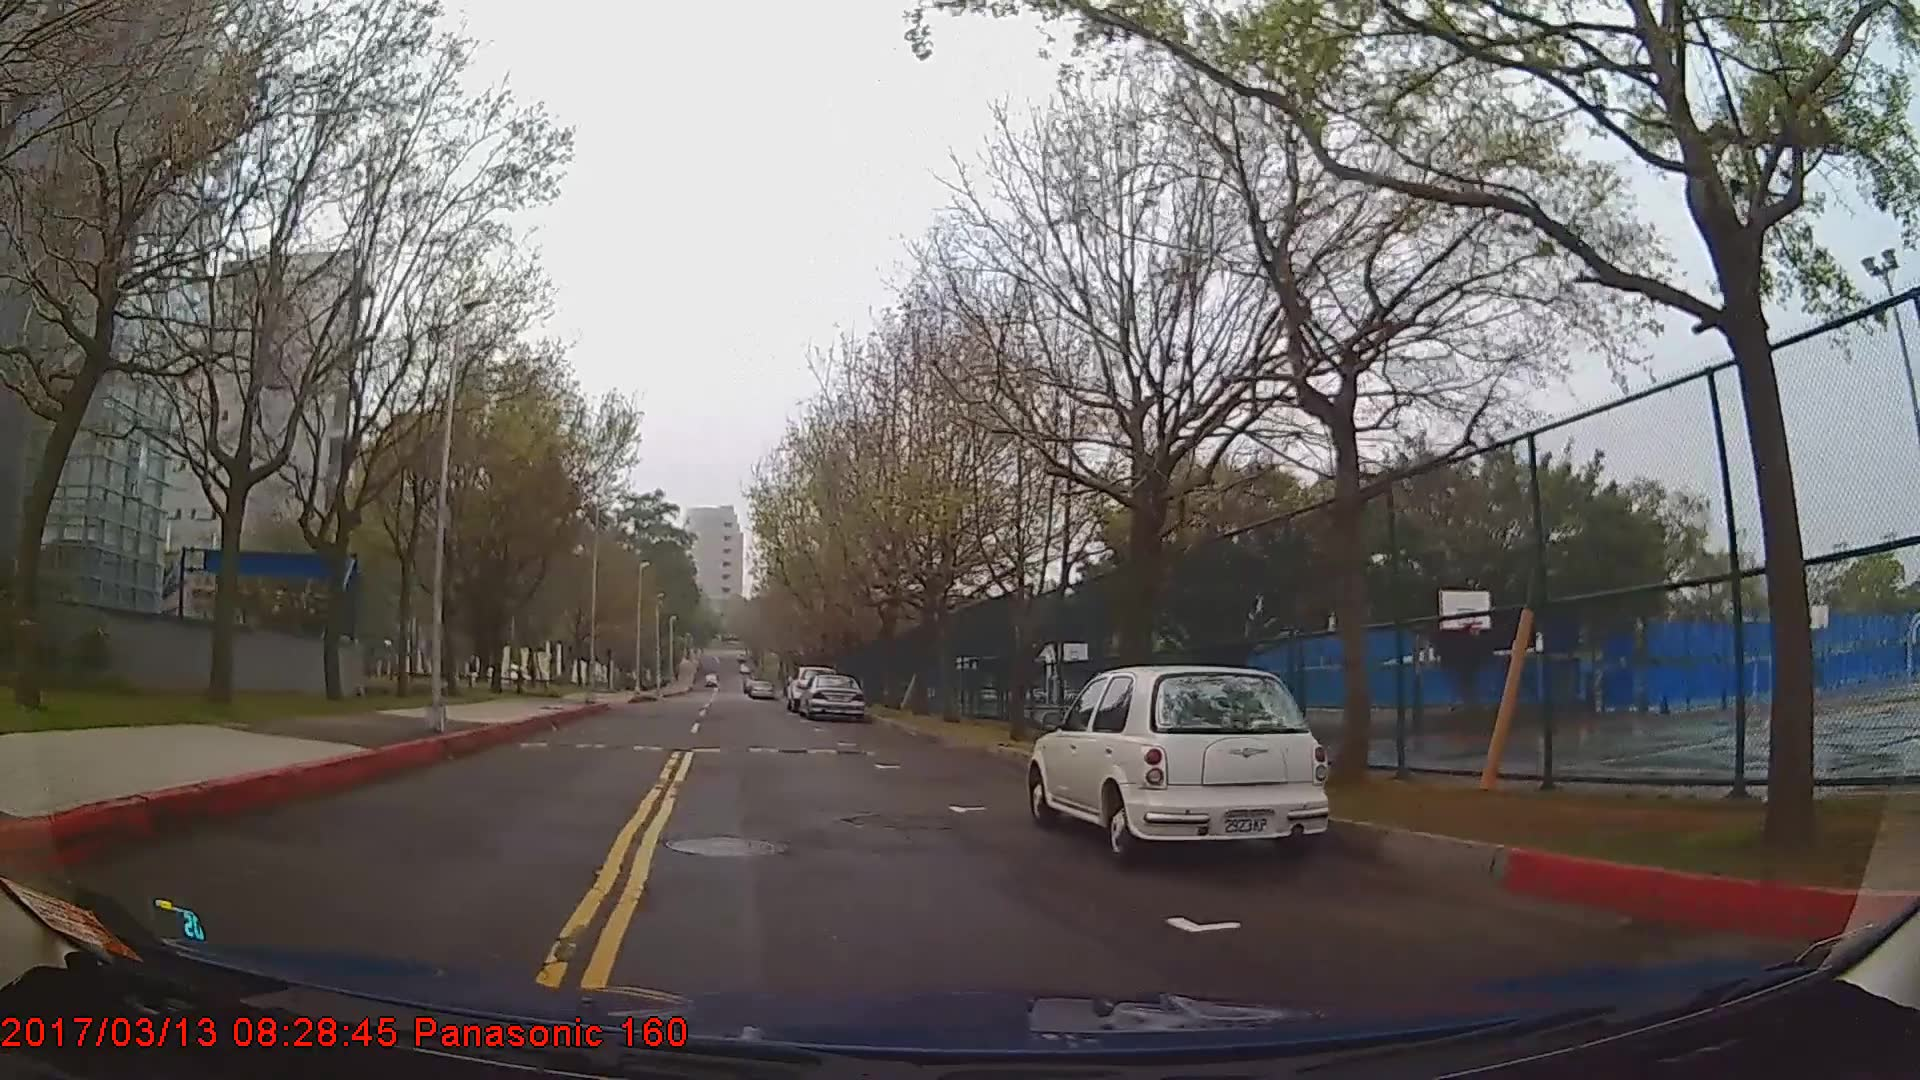vehicle: (1022, 665, 1331, 866), (793, 671, 862, 719)
